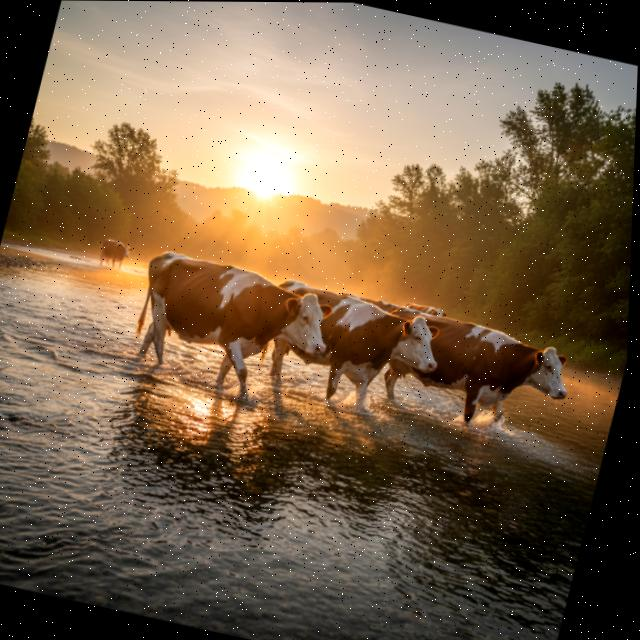cow: (108, 238, 345, 426), (348, 281, 589, 455), (239, 266, 450, 439), (85, 228, 138, 281), (394, 292, 457, 324)
